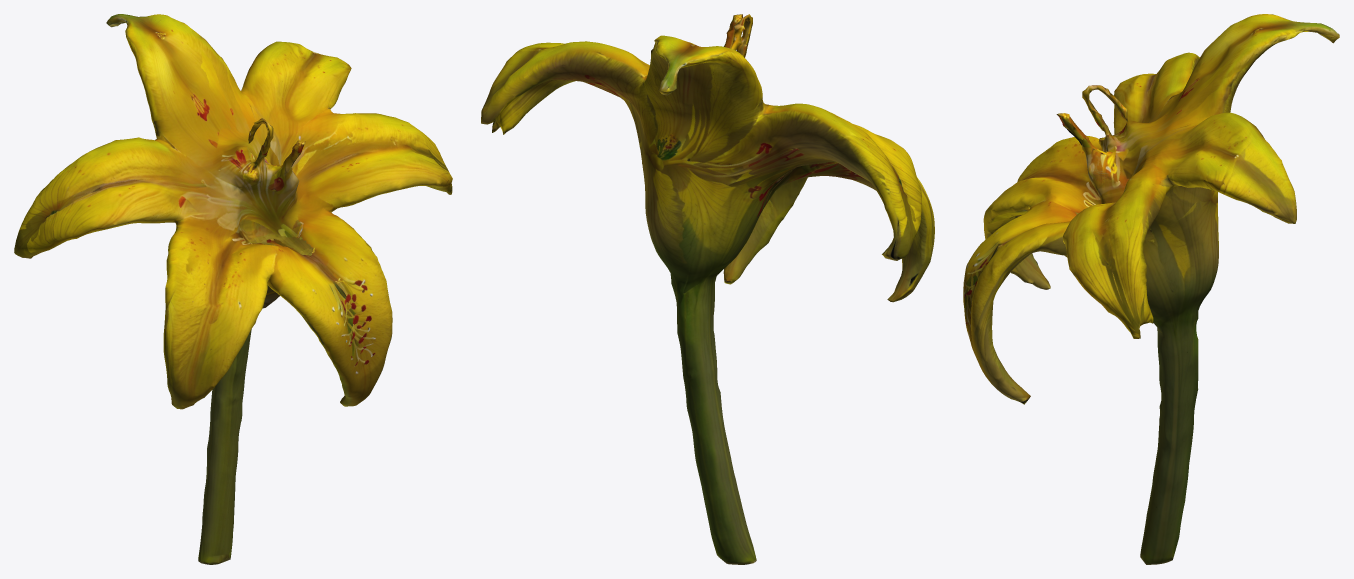
File: Canada_Lily.glb
The picture shows the model from 3 angles, left to right: view 1: azimuth 30°, elevation 25°; view 2: azimuth 150°, elevation 25°; view 3: azimuth 270°, elevation 25°; orthographic projection. The views are drawn at different scales.
Size of the model in its own units: 1.01 by 1.2 by 0.7693.
1 material, 1 textured.
